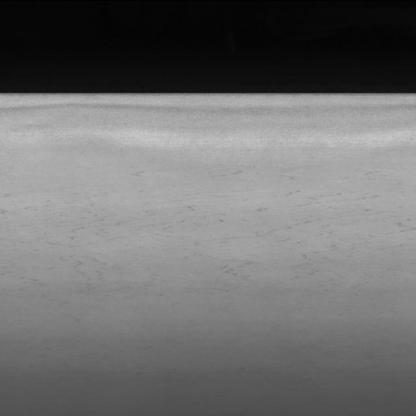silk_spot: (43, 178, 370, 290)
